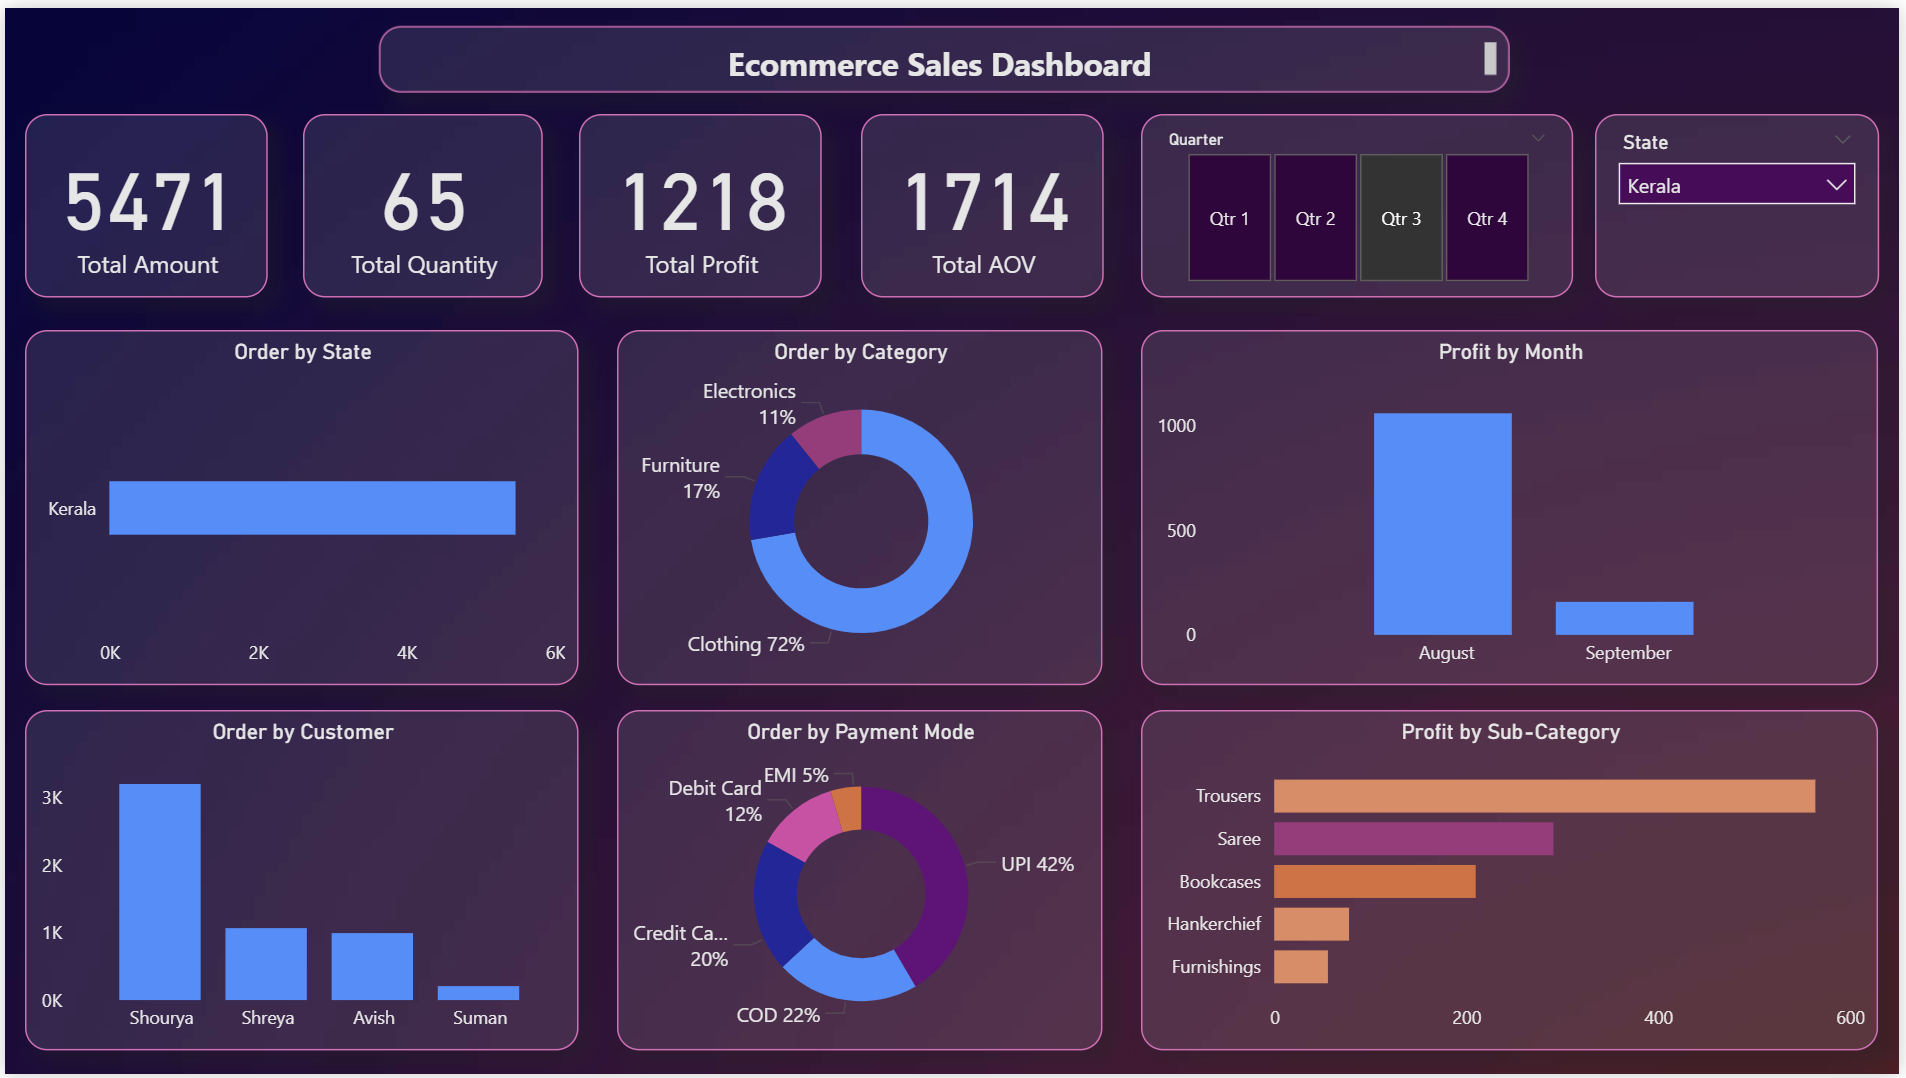

The page's visual inventory and layout, read from the dashboard file:
{"tool":"powerbi","page":{"name":"Page 1","canvas":[1280,720],"ordinal":0},"visuals":[{"type":"textbox","box":[253,12,764,45],"z":0},{"type":"columnChart","title":"Profit by Month","fields":{"Y":["Sum(Details.Profit)"],"Category":["Orders.Order Date.Variation.Date Hierarchy.Month"]},"box":[768,218,498,240],"z":1000},{"type":"barChart","title":"Profit by Sub-Category","fields":{"Category":["Details.Sub-Category"],"Y":["Sum(Details.Profit)"]},"box":[768,474,498,230],"z":2000},{"type":"donutChart","title":"Order by Category","fields":{"Category":["Details.Category"],"Y":["Sum(Details.Quantity)"]},"box":[414,218,328,240],"z":3000},{"type":"donutChart","title":"Order by Payment Mode","fields":{"Category":["Details.PaymentMode","Details.Category"],"Y":["Sum(Details.Quantity)"]},"box":[414,474,328,230],"z":4000},{"type":"card","fields":{"Values":["Sum(Details.Amount)"]},"box":[14,72,164,124],"z":5000},{"type":"card","fields":{"Values":["Sum(Details.Quantity)"]},"box":[202,72,162,124],"z":6000},{"type":"card","fields":{"Values":["Sum(Details.Profit)"]},"box":[388,72,164,124],"z":7000},{"type":"card","fields":{"Values":["Sum(Details.AOV)"]},"box":[578,72,164,124],"z":8000},{"type":"barChart","title":"Order by State","fields":{"Category":["Orders.State"],"Y":["Sum(Details.Amount)"]},"box":[14,218,374,240],"z":9000},{"type":"columnChart","title":"Order by Customer","fields":{"Category":["Orders.CustomerName"],"Y":["Sum(Details.Amount)"]},"box":[14,474,374,230],"z":10000},{"type":"slicer","fields":{"Values":["Orders.Order Date.Variation.Date Hierarchy.Quarter"]},"box":[768,72,292,124],"z":11000},{"type":"slicer","fields":{"Values":["Orders.State"]},"box":[1074,72,192,124],"z":12000}]}

Visuals, with their boxes in screenshot pixels (x1, y1, x2, y2), scaled from the page's 1280x720 canvas onto the 1906x1078 screenshot:
textbox: {"left": 377, "top": 18, "right": 1514, "bottom": 85}
"Profit by Month" columnChart: {"left": 1144, "top": 326, "right": 1885, "bottom": 686}
"Profit by Sub-Category" barChart: {"left": 1144, "top": 710, "right": 1885, "bottom": 1054}
"Order by Category" donutChart: {"left": 616, "top": 326, "right": 1105, "bottom": 686}
"Order by Payment Mode" donutChart: {"left": 616, "top": 710, "right": 1105, "bottom": 1054}
card - Sum(Details.Amount): {"left": 21, "top": 108, "right": 265, "bottom": 293}
card - Sum(Details.Quantity): {"left": 301, "top": 108, "right": 542, "bottom": 293}
card - Sum(Details.Profit): {"left": 578, "top": 108, "right": 822, "bottom": 293}
card - Sum(Details.AOV): {"left": 861, "top": 108, "right": 1105, "bottom": 293}
"Order by State" barChart: {"left": 21, "top": 326, "right": 578, "bottom": 686}
"Order by Customer" columnChart: {"left": 21, "top": 710, "right": 578, "bottom": 1054}
slicer - Orders.Order Date.Variation.Date Hierarchy.Quarter: {"left": 1144, "top": 108, "right": 1578, "bottom": 293}
slicer - Orders.State: {"left": 1599, "top": 108, "right": 1885, "bottom": 293}
